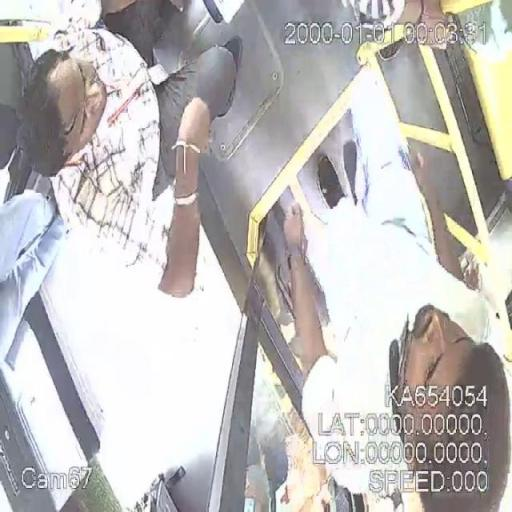persona: (274, 65, 508, 512), (19, 0, 238, 294), (2, 192, 56, 354)
